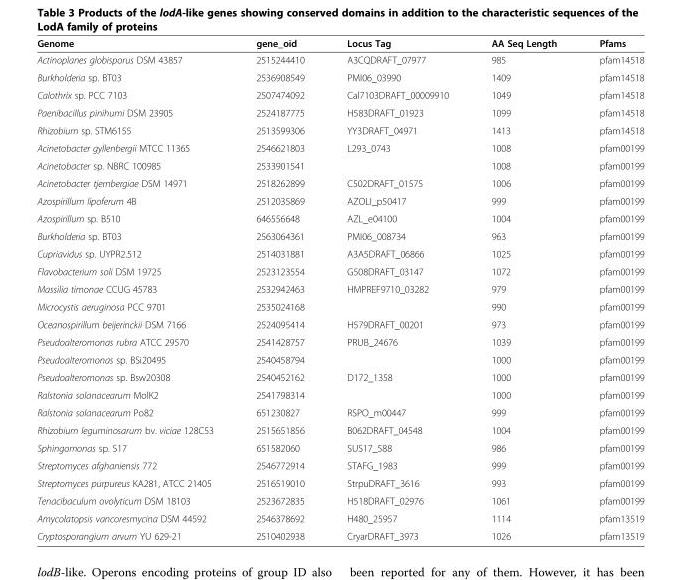table: (36, 37, 643, 541)
table column: (36, 37, 234, 541), (324, 37, 469, 541), (469, 37, 577, 541), (234, 37, 324, 541), (577, 37, 643, 541)
table column header: (36, 37, 643, 51)
table row: (36, 85, 643, 103), (36, 103, 643, 121), (36, 138, 643, 156), (36, 156, 643, 174), (36, 191, 643, 209), (36, 209, 643, 227), (36, 244, 643, 262), (36, 279, 643, 297), (36, 297, 643, 315), (36, 332, 643, 350), (36, 350, 643, 368), (36, 385, 643, 403), (36, 403, 643, 421), (36, 438, 643, 456), (36, 456, 643, 474), (36, 491, 643, 509), (36, 51, 643, 68), (36, 68, 643, 85), (36, 121, 643, 138), (36, 174, 643, 191), (36, 227, 643, 244), (36, 262, 643, 279), (36, 315, 643, 332), (36, 368, 643, 385), (36, 421, 643, 438), (36, 474, 643, 491), (36, 509, 643, 526), (36, 526, 643, 541), (36, 37, 643, 51)
